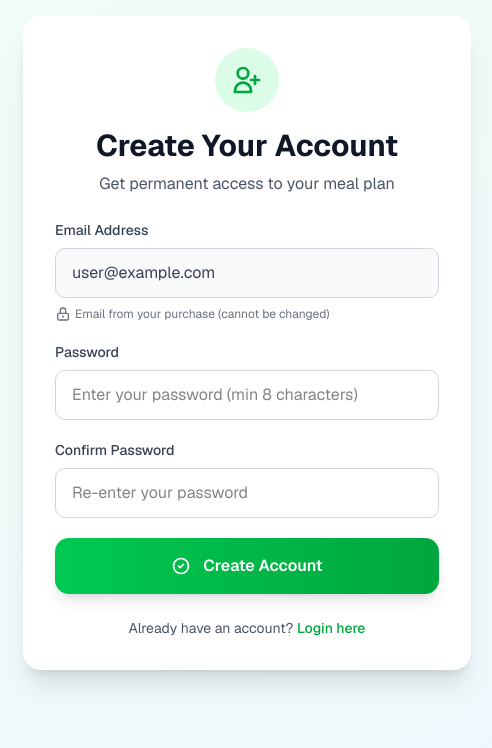
Test: CreateAccountPage › Form Fields › should display password strength indicator
Type "weak" into the password field labelled "Password" at [247, 395], box [55,370,439,420]
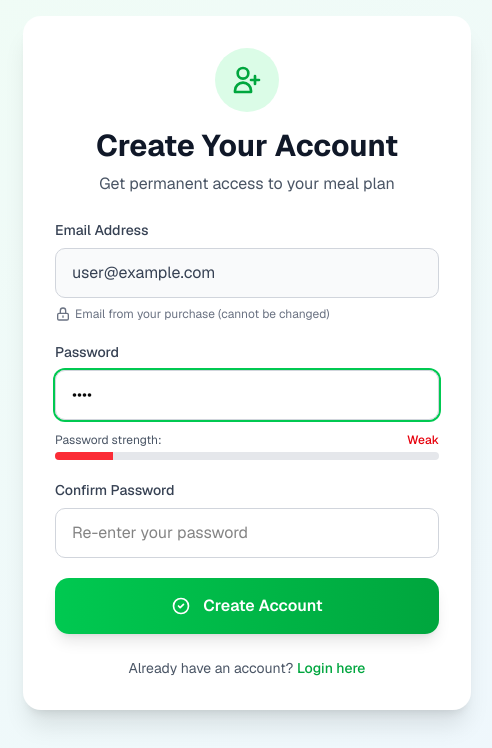
Expected: the text "Password strength:" is shown, [55,432,162,448]
Expected: the text "Weak" is shown, [407,432,439,448]
Type "StrongP@ssw0rd!" into the password field labelled "Password" at [247, 395], box [55,370,439,420]
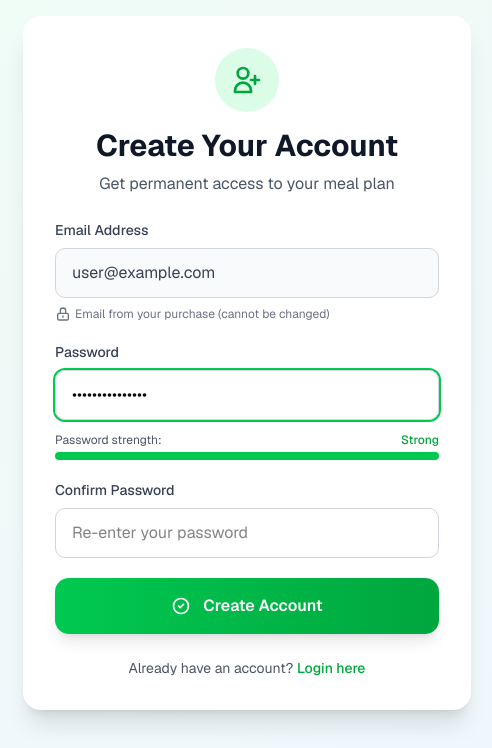
Expected: the text "Strong" is shown, [401,432,439,448]
